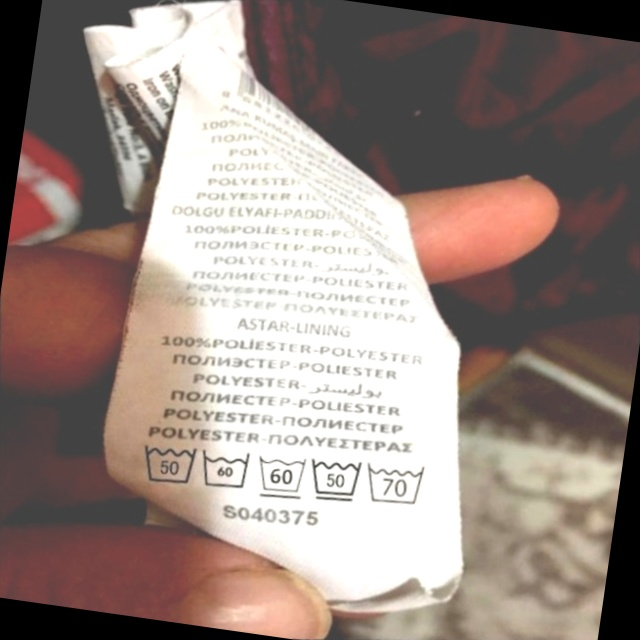50C: (131, 429, 207, 496), (302, 448, 371, 512)
60C: (250, 444, 316, 507), (194, 439, 260, 500)
70C: (361, 452, 437, 515)
